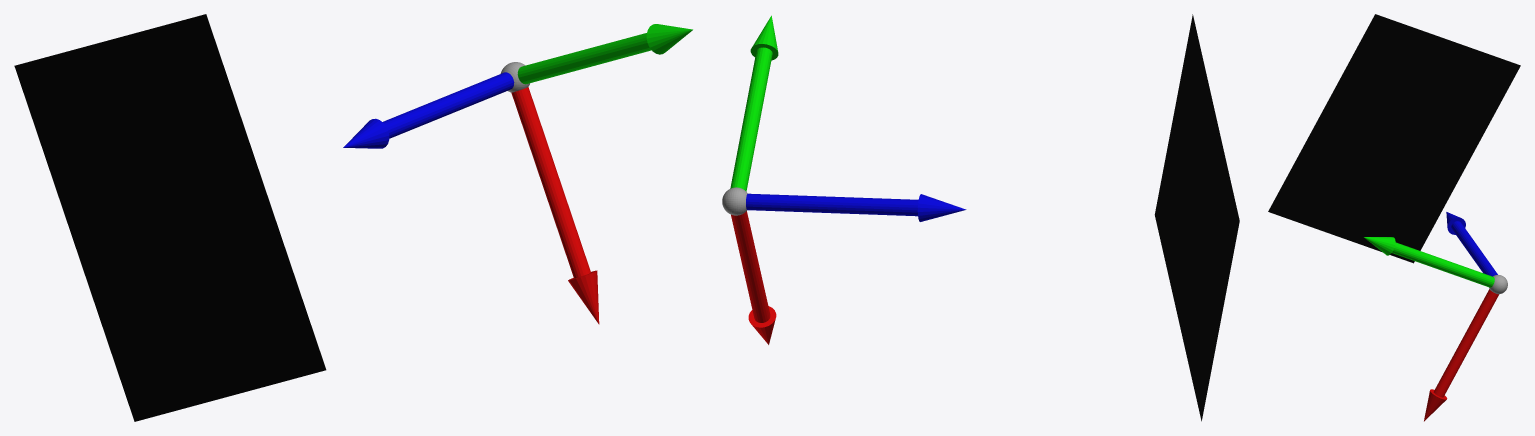
The picture shows the model from 3 angles, left to right: view 1: azimuth 30°, elevation 25°; view 2: azimuth 150°, elevation 25°; view 3: azimuth 270°, elevation 25°; orthographic projection. The views are drawn at different scales.
Size of the model in its own units: 0.3048 by 0.2346 by 0.1943.
